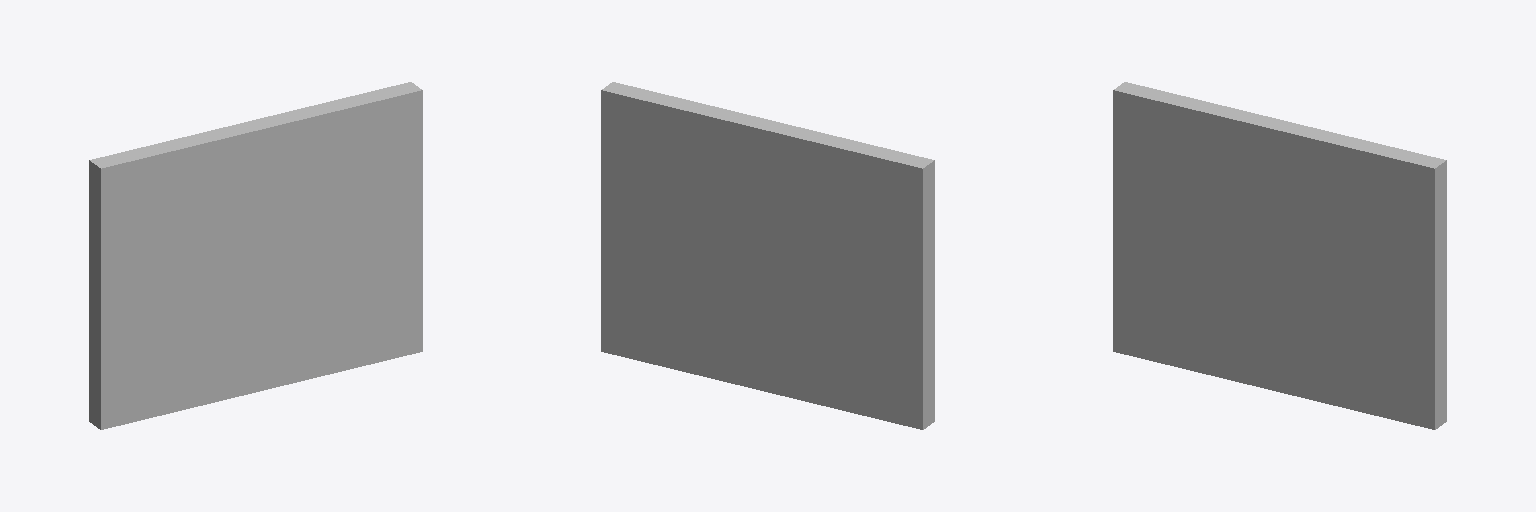
Rendered from housesp_112.obj.
The picture shows the model from 3 angles: view 1: azimuth 30°, elevation 25°; view 2: azimuth 150°, elevation 25°; view 3: azimuth 330°, elevation 25°; orthographic projection.
Size of the model in its own units: 112 by 87 by 7.